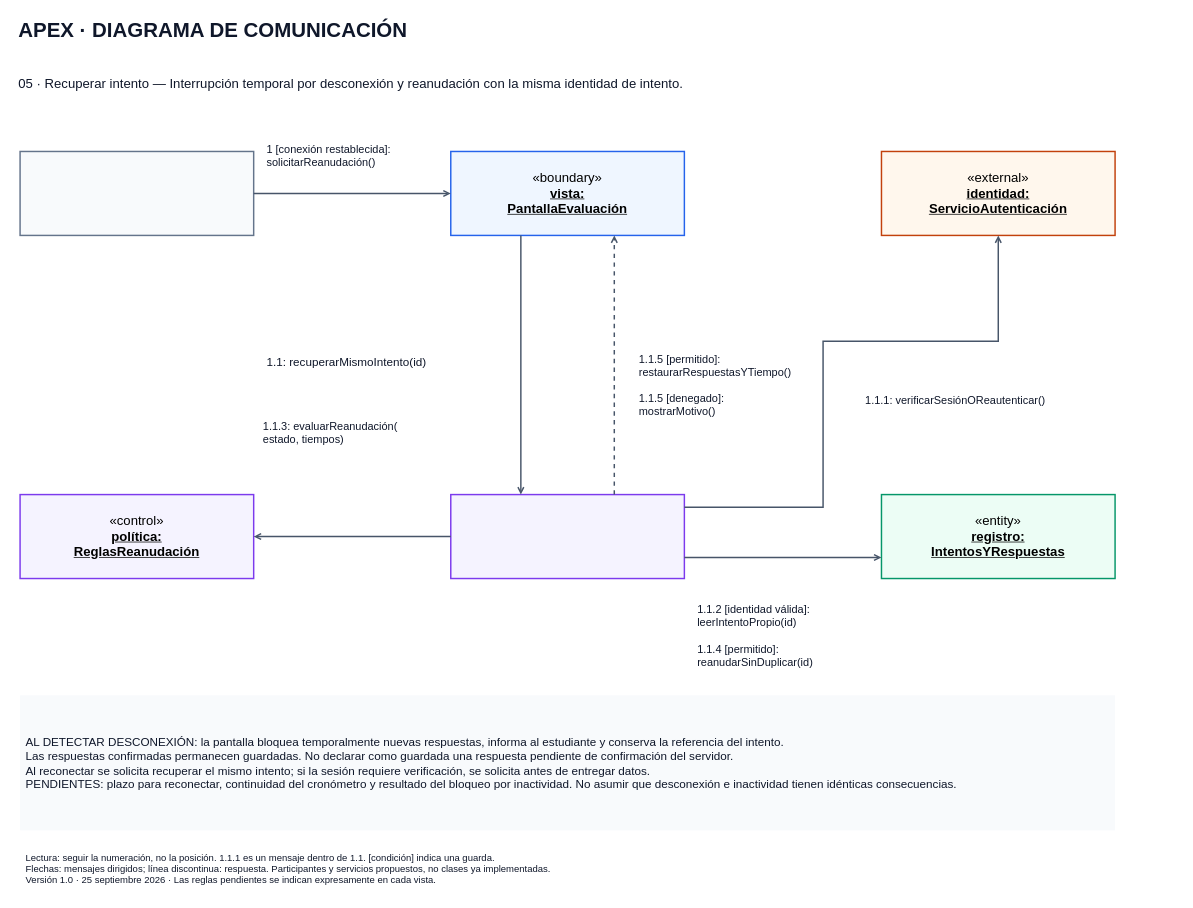
This 1193x908 diagram has some shape labels left out. The shapes that lost their labels are listed below. From the top down, each one's centre as x and y in pixels, then its label:
At (x=136, y=193): "«actor» estudiante: Estudiante".
At (x=567, y=536): "«control» evaluación: GestorEvaluación".
